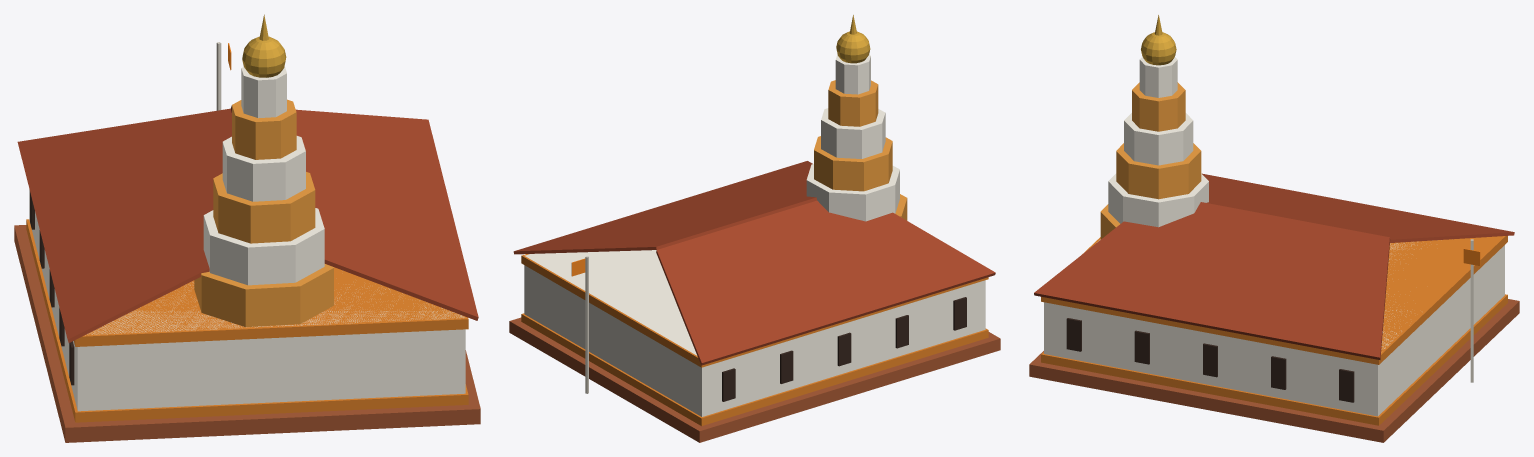
Rendered from maruti.glb.
3 renders of one model, left to right at view 1: azimuth 30°, elevation 25°; view 2: azimuth 150°, elevation 25°; view 3: azimuth 270°, elevation 25°, orthographic. The views are drawn at different scales.
Parts seen in each view (by area): view 1: m, Cube.001, m.001, Cube.002, Cube, Cylinder, Cube.003, Cylinder.001, Cylinder.002, Cylinder.003, Cylinder.004, Cylinder.005 (+1 smaller); view 2: m, Cube.001, m.001, Cube, Cube.003, Cylinder.002, Cylinder.001, Cube.002, Cylinder.003, Cylinder.004, Cylinder.005, Sphere (+1 smaller); view 3: m.001, Cube.001, Cube.002, Cube, m, Cube.003, Cylinder.002, Cylinder.001, Cylinder.003, Cylinder.004, Cylinder.005, Sphere (+6 smaller).
Boxes of the visible parts, x1,y1,x2,y2 form: m: [17, 108, 231, 342]; Cube.001: [29, 189, 465, 411]; m.001: [230, 105, 478, 320]; Cube.002: [74, 267, 468, 346]; Cube: [14, 225, 480, 442]; Cylinder: [194, 264, 333, 327]; Cube.003: [26, 219, 468, 422]; Cylinder.001: [203, 208, 324, 285]; Cylinder.002: [213, 172, 315, 243]; Cylinder.003: [222, 136, 305, 201]; Cylinder.004: [232, 99, 296, 159]; Cylinder.005: [241, 66, 286, 118]; m: [656, 200, 995, 365]; Cube.001: [524, 250, 985, 416]; m.001: [513, 161, 816, 254]; Cube: [509, 317, 1000, 442]; Cube.003: [521, 313, 988, 425]; Cylinder.002: [814, 136, 892, 191]; Cylinder.001: [806, 164, 899, 221]; Cube.002: [521, 254, 988, 367]; Cylinder.003: [821, 108, 885, 158]; Cylinder.004: [828, 80, 878, 126]; Cylinder.005: [835, 54, 870, 94]; Sphere: [836, 31, 870, 63]; m.001: [1034, 202, 1390, 359]; Cube.001: [1044, 239, 1504, 416]; Cube.002: [1041, 236, 1507, 364]; Cube: [1029, 299, 1519, 442]; m: [1202, 173, 1514, 242]; Cube.003: [1041, 294, 1507, 425]; Cylinder.002: [1116, 143, 1201, 199]; Cylinder.001: [1108, 173, 1208, 227]; Cylinder.003: [1124, 113, 1193, 165]; Cylinder.004: [1132, 82, 1185, 131]; Cylinder.005: [1139, 57, 1177, 97]; Sphere: [1141, 32, 1176, 65].
Size of the model in its own units: 41.49 by 30.5 by 43.83.
